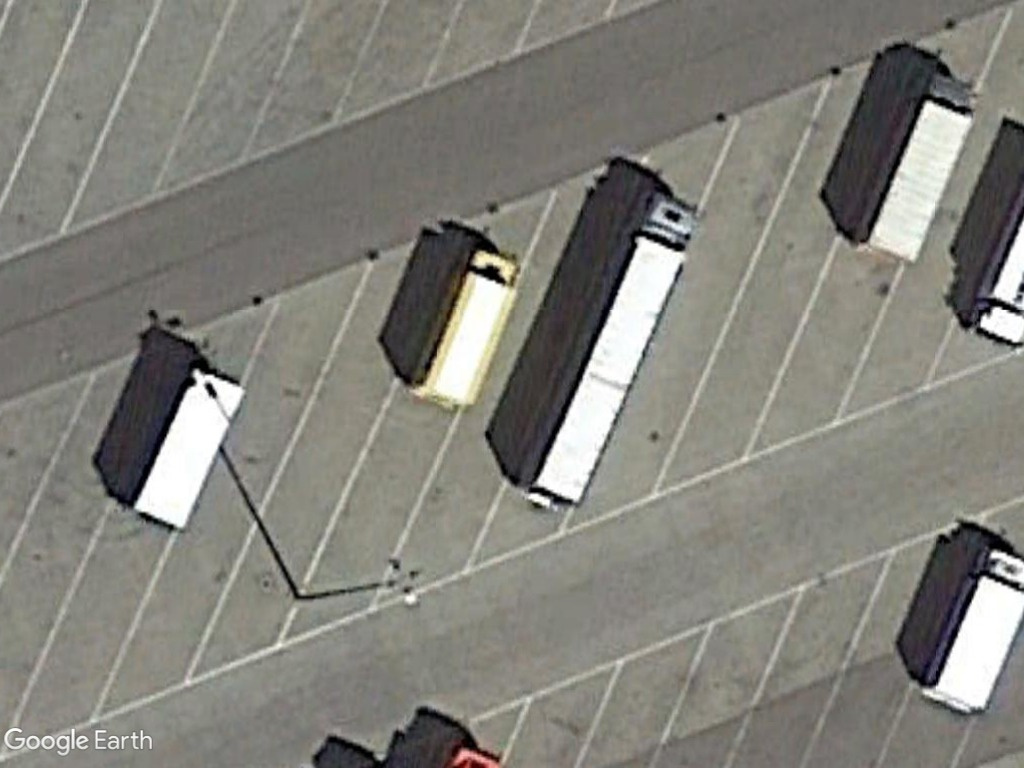longvehicle: (514, 188, 706, 516)
truck: (839, 72, 986, 256), (407, 243, 524, 415), (918, 545, 1024, 706)
